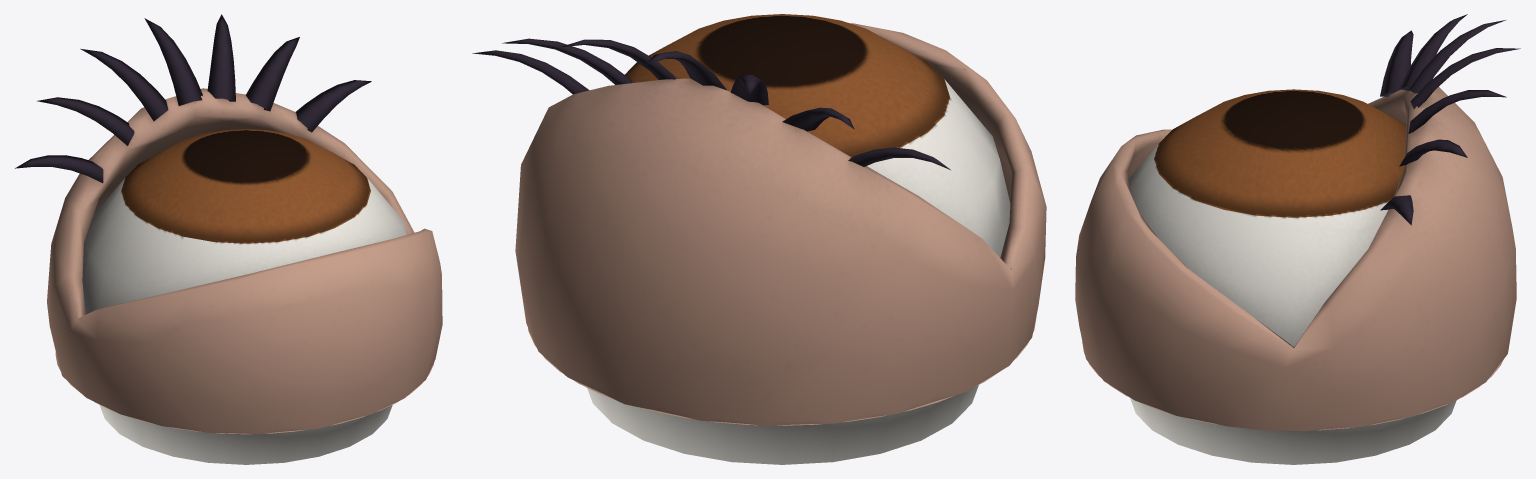
File: cpart_eye_lashed.glb
3 renders of one model, left to right at view 1: azimuth 30°, elevation 25°; view 2: azimuth 150°, elevation 25°; view 3: azimuth 270°, elevation 25°, orthographic. The views are drawn at different scales.
Visible parts, largest first — view 1: EyeLashedLid, EyeLashed, EyeLashedLashes; view 2: EyeLashedLid, EyeLashed, EyeLashedLashes; view 3: EyeLashedLid, EyeLashed, EyeLashedLashes.
Boxes of the visible parts, <box> form: EyeLashedLid: <box>47,88,442,434</box>; EyeLashed: <box>82,129,407,464</box>; EyeLashedLashes: <box>15,14,371,182</box>; EyeLashedLid: <box>515,23,1046,425</box>; EyeLashed: <box>587,14,1010,464</box>; EyeLashedLashes: <box>472,38,950,169</box>; EyeLashedLid: <box>1075,87,1516,431</box>; EyeLashed: <box>1128,89,1456,464</box>; EyeLashedLashes: <box>1380,14,1520,225</box>.
Bounding box in the file's own units: 0.115 × 0.1037 × 0.1111.
Materials: 4 (4 with a texture image).
